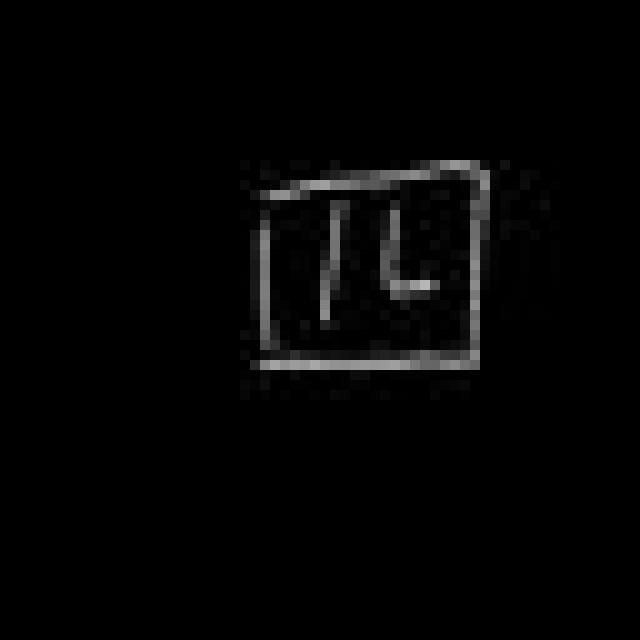4 -four-: (239, 149, 503, 396)
